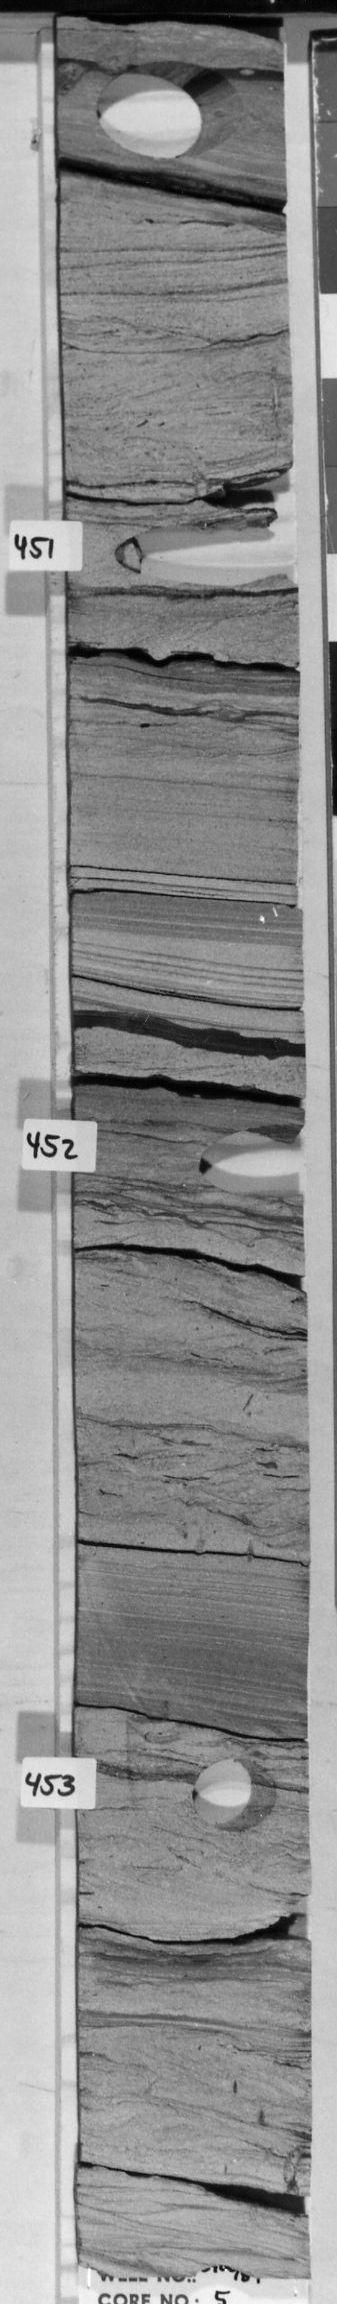hplug: (113, 519, 300, 601), (194, 1120, 302, 1211), (190, 1753, 281, 1837)
scal: (90, 59, 255, 165)
vplug: (115, 1710, 181, 1821)
